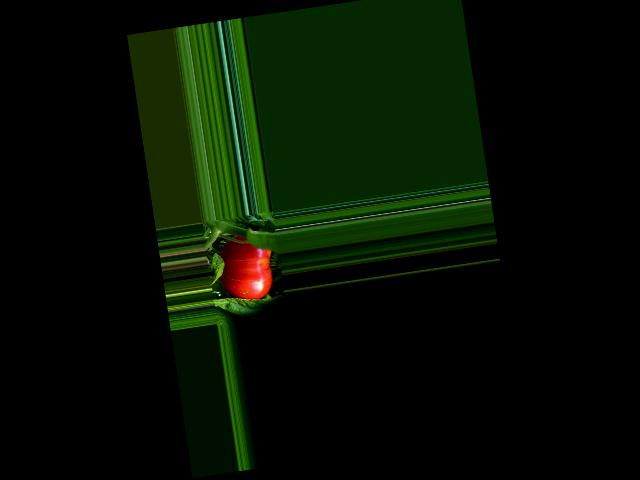tomato: (214, 230, 278, 304)
